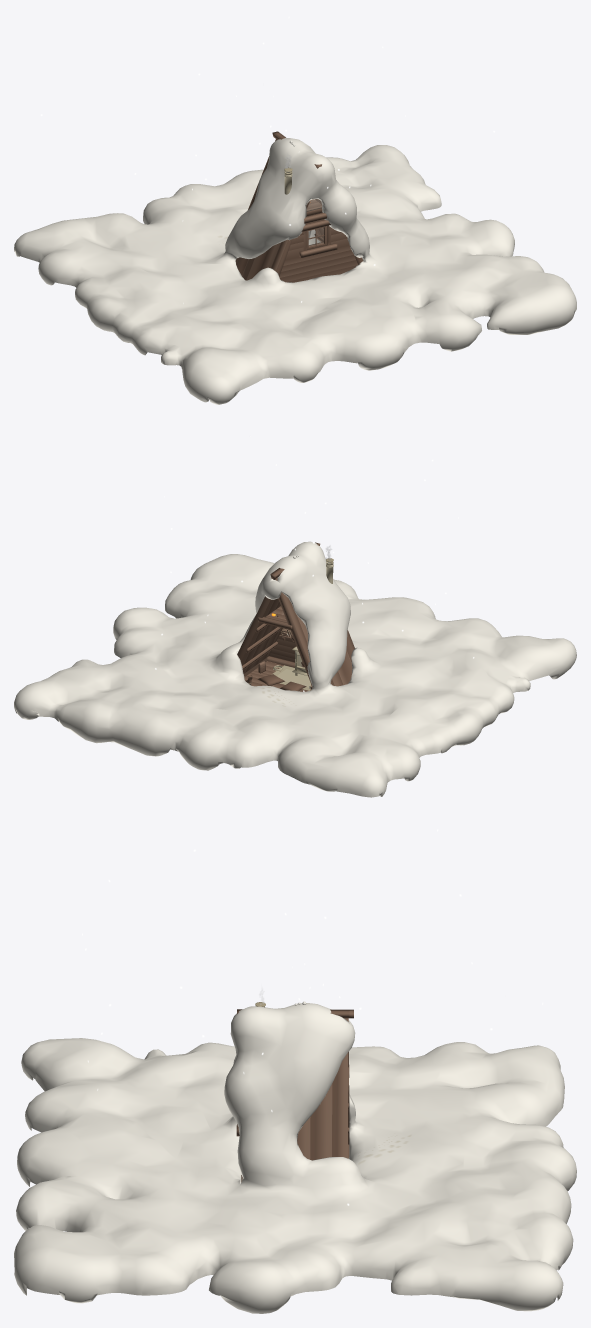
3 renders of one model, top to bottom at view 1: azimuth 30°, elevation 25°; view 2: azimuth 150°, elevation 25°; view 3: azimuth 270°, elevation 25°, orthographic. The views are drawn at different scales.
Visible parts, largest first — view 1: 3dmSnow; view 2: 3dmSnow; view 3: 3dmSnow.
Boxes of the visible parts, <box> form: 3dmSnow: <box>14,16,576,404</box>; 3dmSnow: <box>14,436,576,797</box>; 3dmSnow: <box>14,829,576,1313</box>.
Size of the model in its own units: 8.75 by 4.41 by 8.22.
41 materials, 40 textured.
